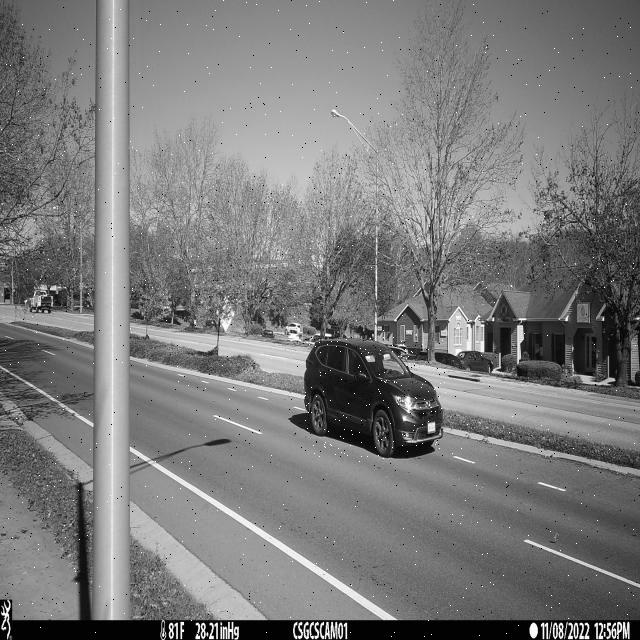SUV: (304, 337, 444, 458)
